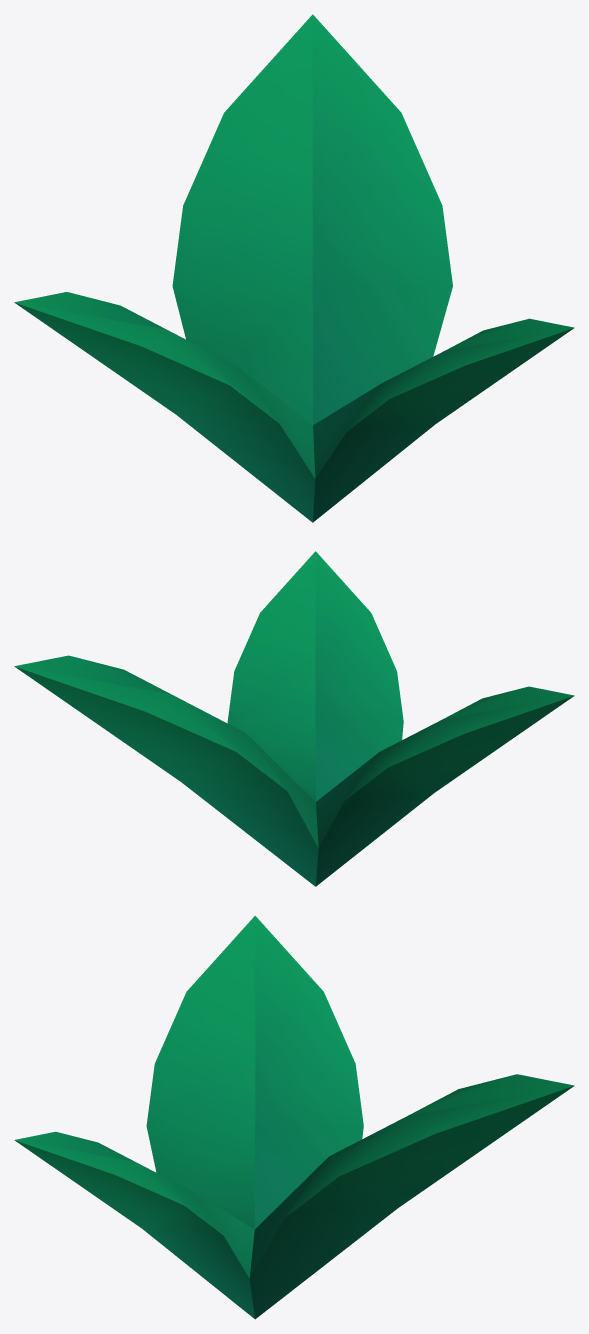
The model's file is d_kaykit_roseau_a.glb.
The picture shows the model from 3 angles, top to bottom: view 1: azimuth 30°, elevation 25°; view 2: azimuth 150°, elevation 25°; view 3: azimuth 270°, elevation 25°; orthographic projection. The views are drawn at different scales.
Visible parts, largest first — view 1: d_kaykit_roseau_a; view 2: d_kaykit_roseau_a; view 3: d_kaykit_roseau_a.
Boxes of the visible parts, <box> form: d_kaykit_roseau_a: <box>14,14,574,522</box>; d_kaykit_roseau_a: <box>14,551,574,886</box>; d_kaykit_roseau_a: <box>14,915,574,1319</box>.
Bounding box in the file's own units: 0.1983 × 0.1323 × 0.2157.
1 material, 1 textured.
